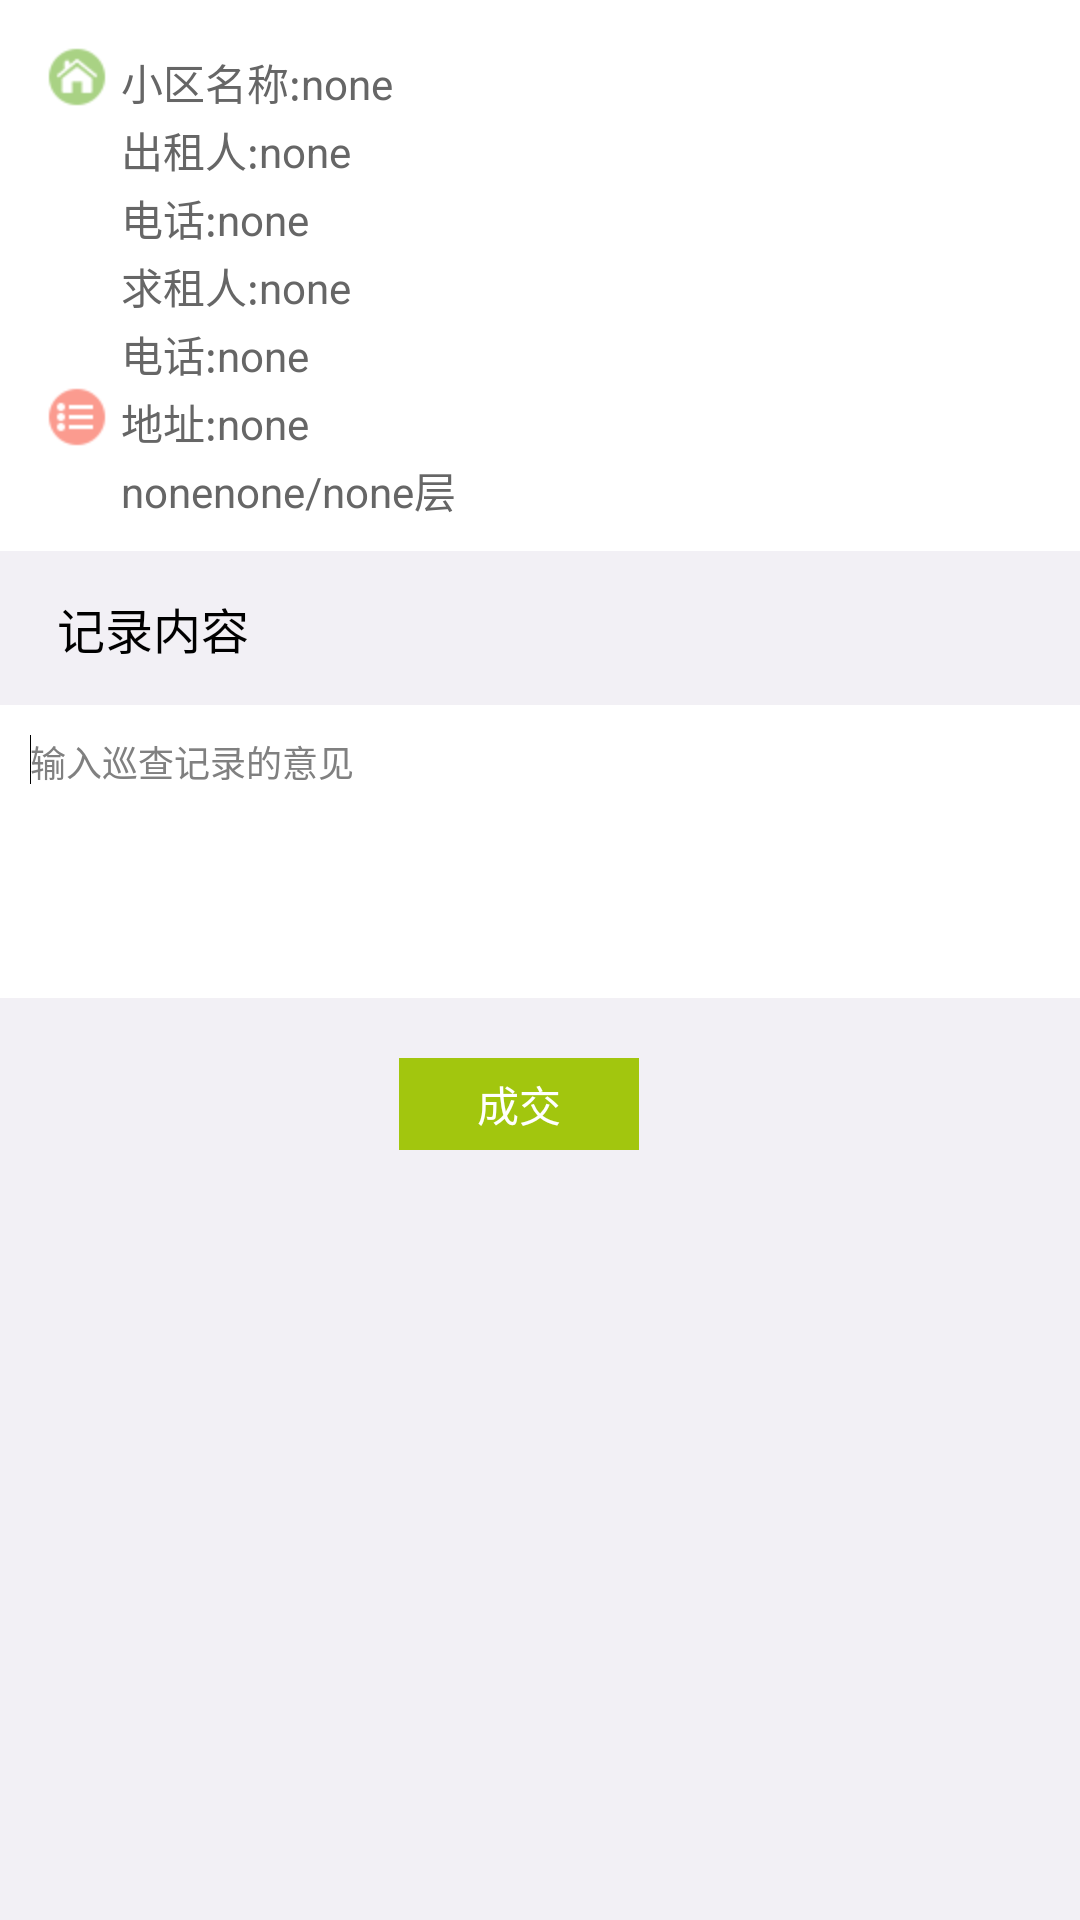

Named icons in this screenshot (1080×1920) and their bounding boxes, (x1, y1, x2, y2):
communite: (48, 48, 106, 106)
